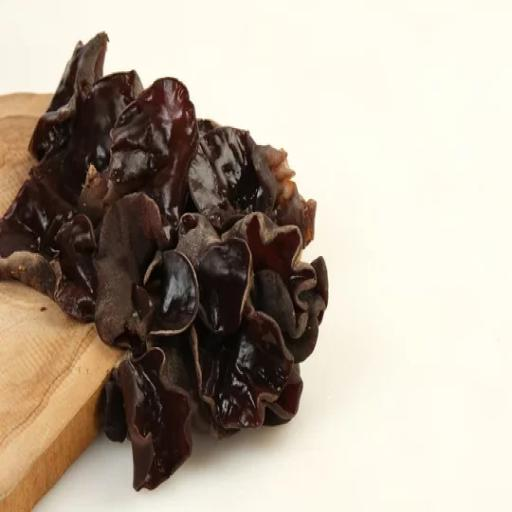Wood Ear Mushroom: (0, 22, 331, 497)
